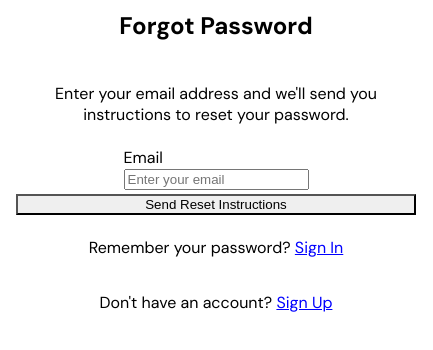
ForgotPassword › shows validation error for empty email
The image size is (433, 350).
Step 1. Click the button "Send Reset Instructions" → (216, 204), box [16,194,416,215]
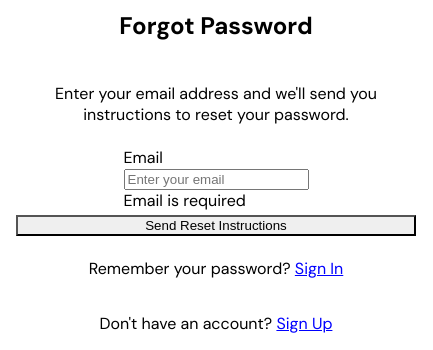
Result: the text "Email is required" is shown at [124,190,246,211]
